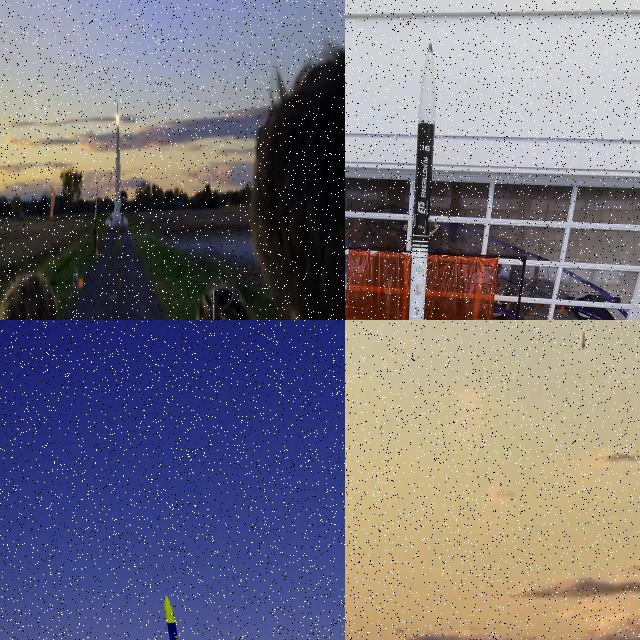Rocket: (409, 43, 436, 320), (161, 595, 201, 640), (581, 330, 586, 350), (117, 100, 118, 115)
